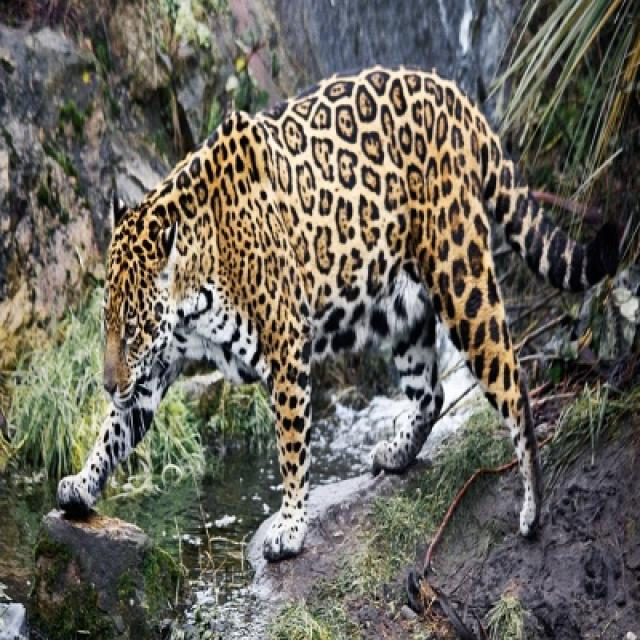Jaguar: (56, 67, 616, 568)
